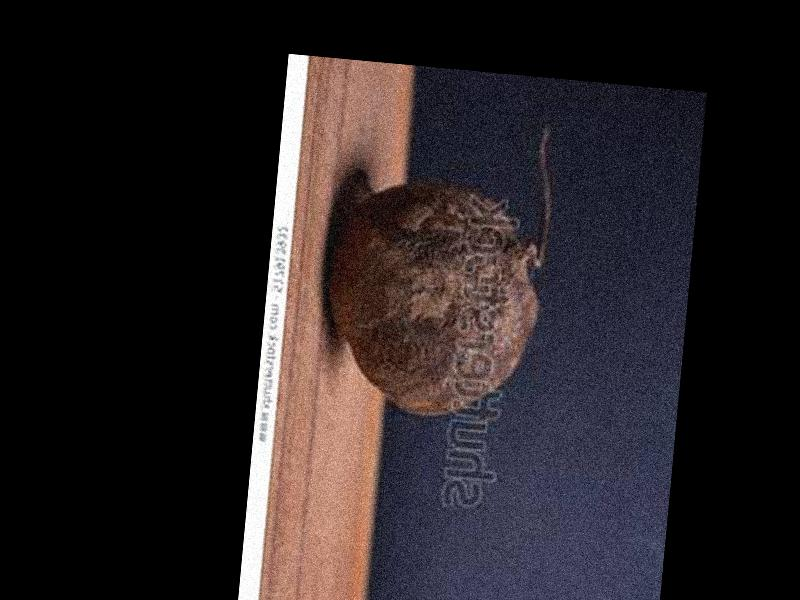Beet: (318, 102, 560, 424)
